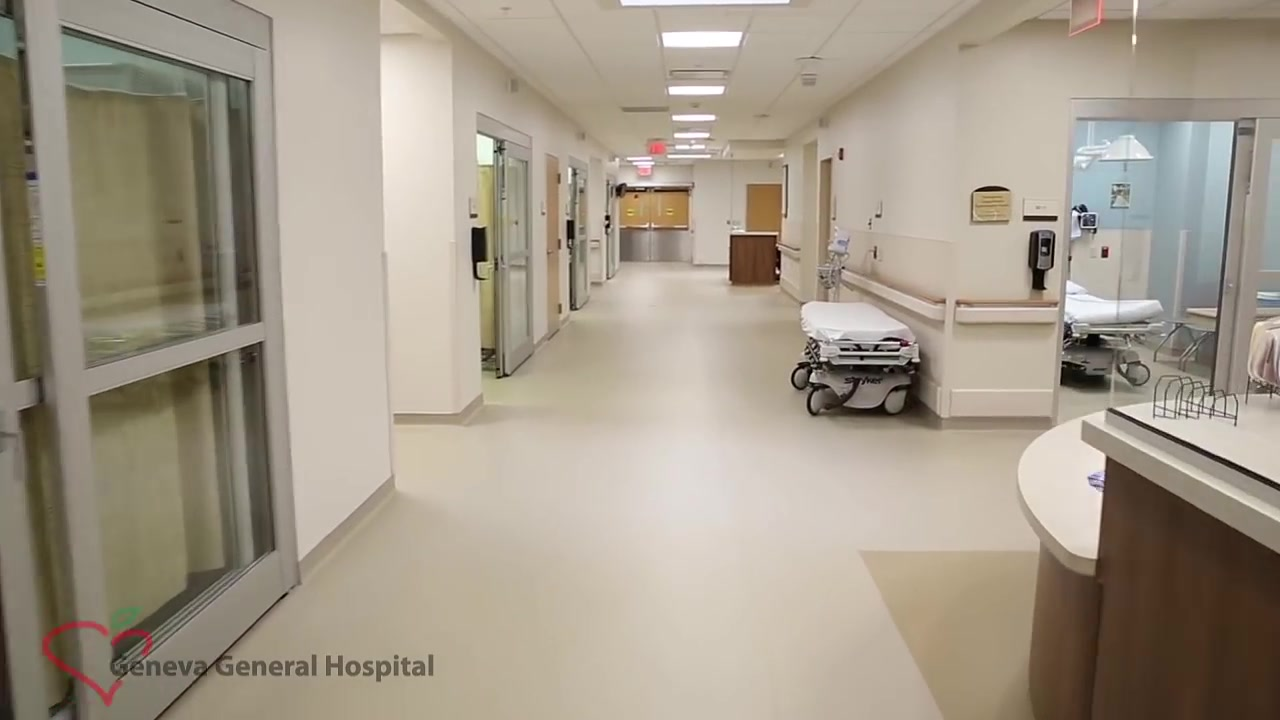counter: (1018, 386, 1280, 720), (727, 232, 779, 283)
countertop: (1017, 392, 1280, 575)
dispenser: (1027, 229, 1056, 292), (471, 226, 490, 281)
hallway_assist_bar: (838, 269, 946, 323), (944, 298, 1065, 326), (774, 242, 800, 258)
hospital_bed: (791, 301, 920, 419), (1061, 279, 1166, 387)
